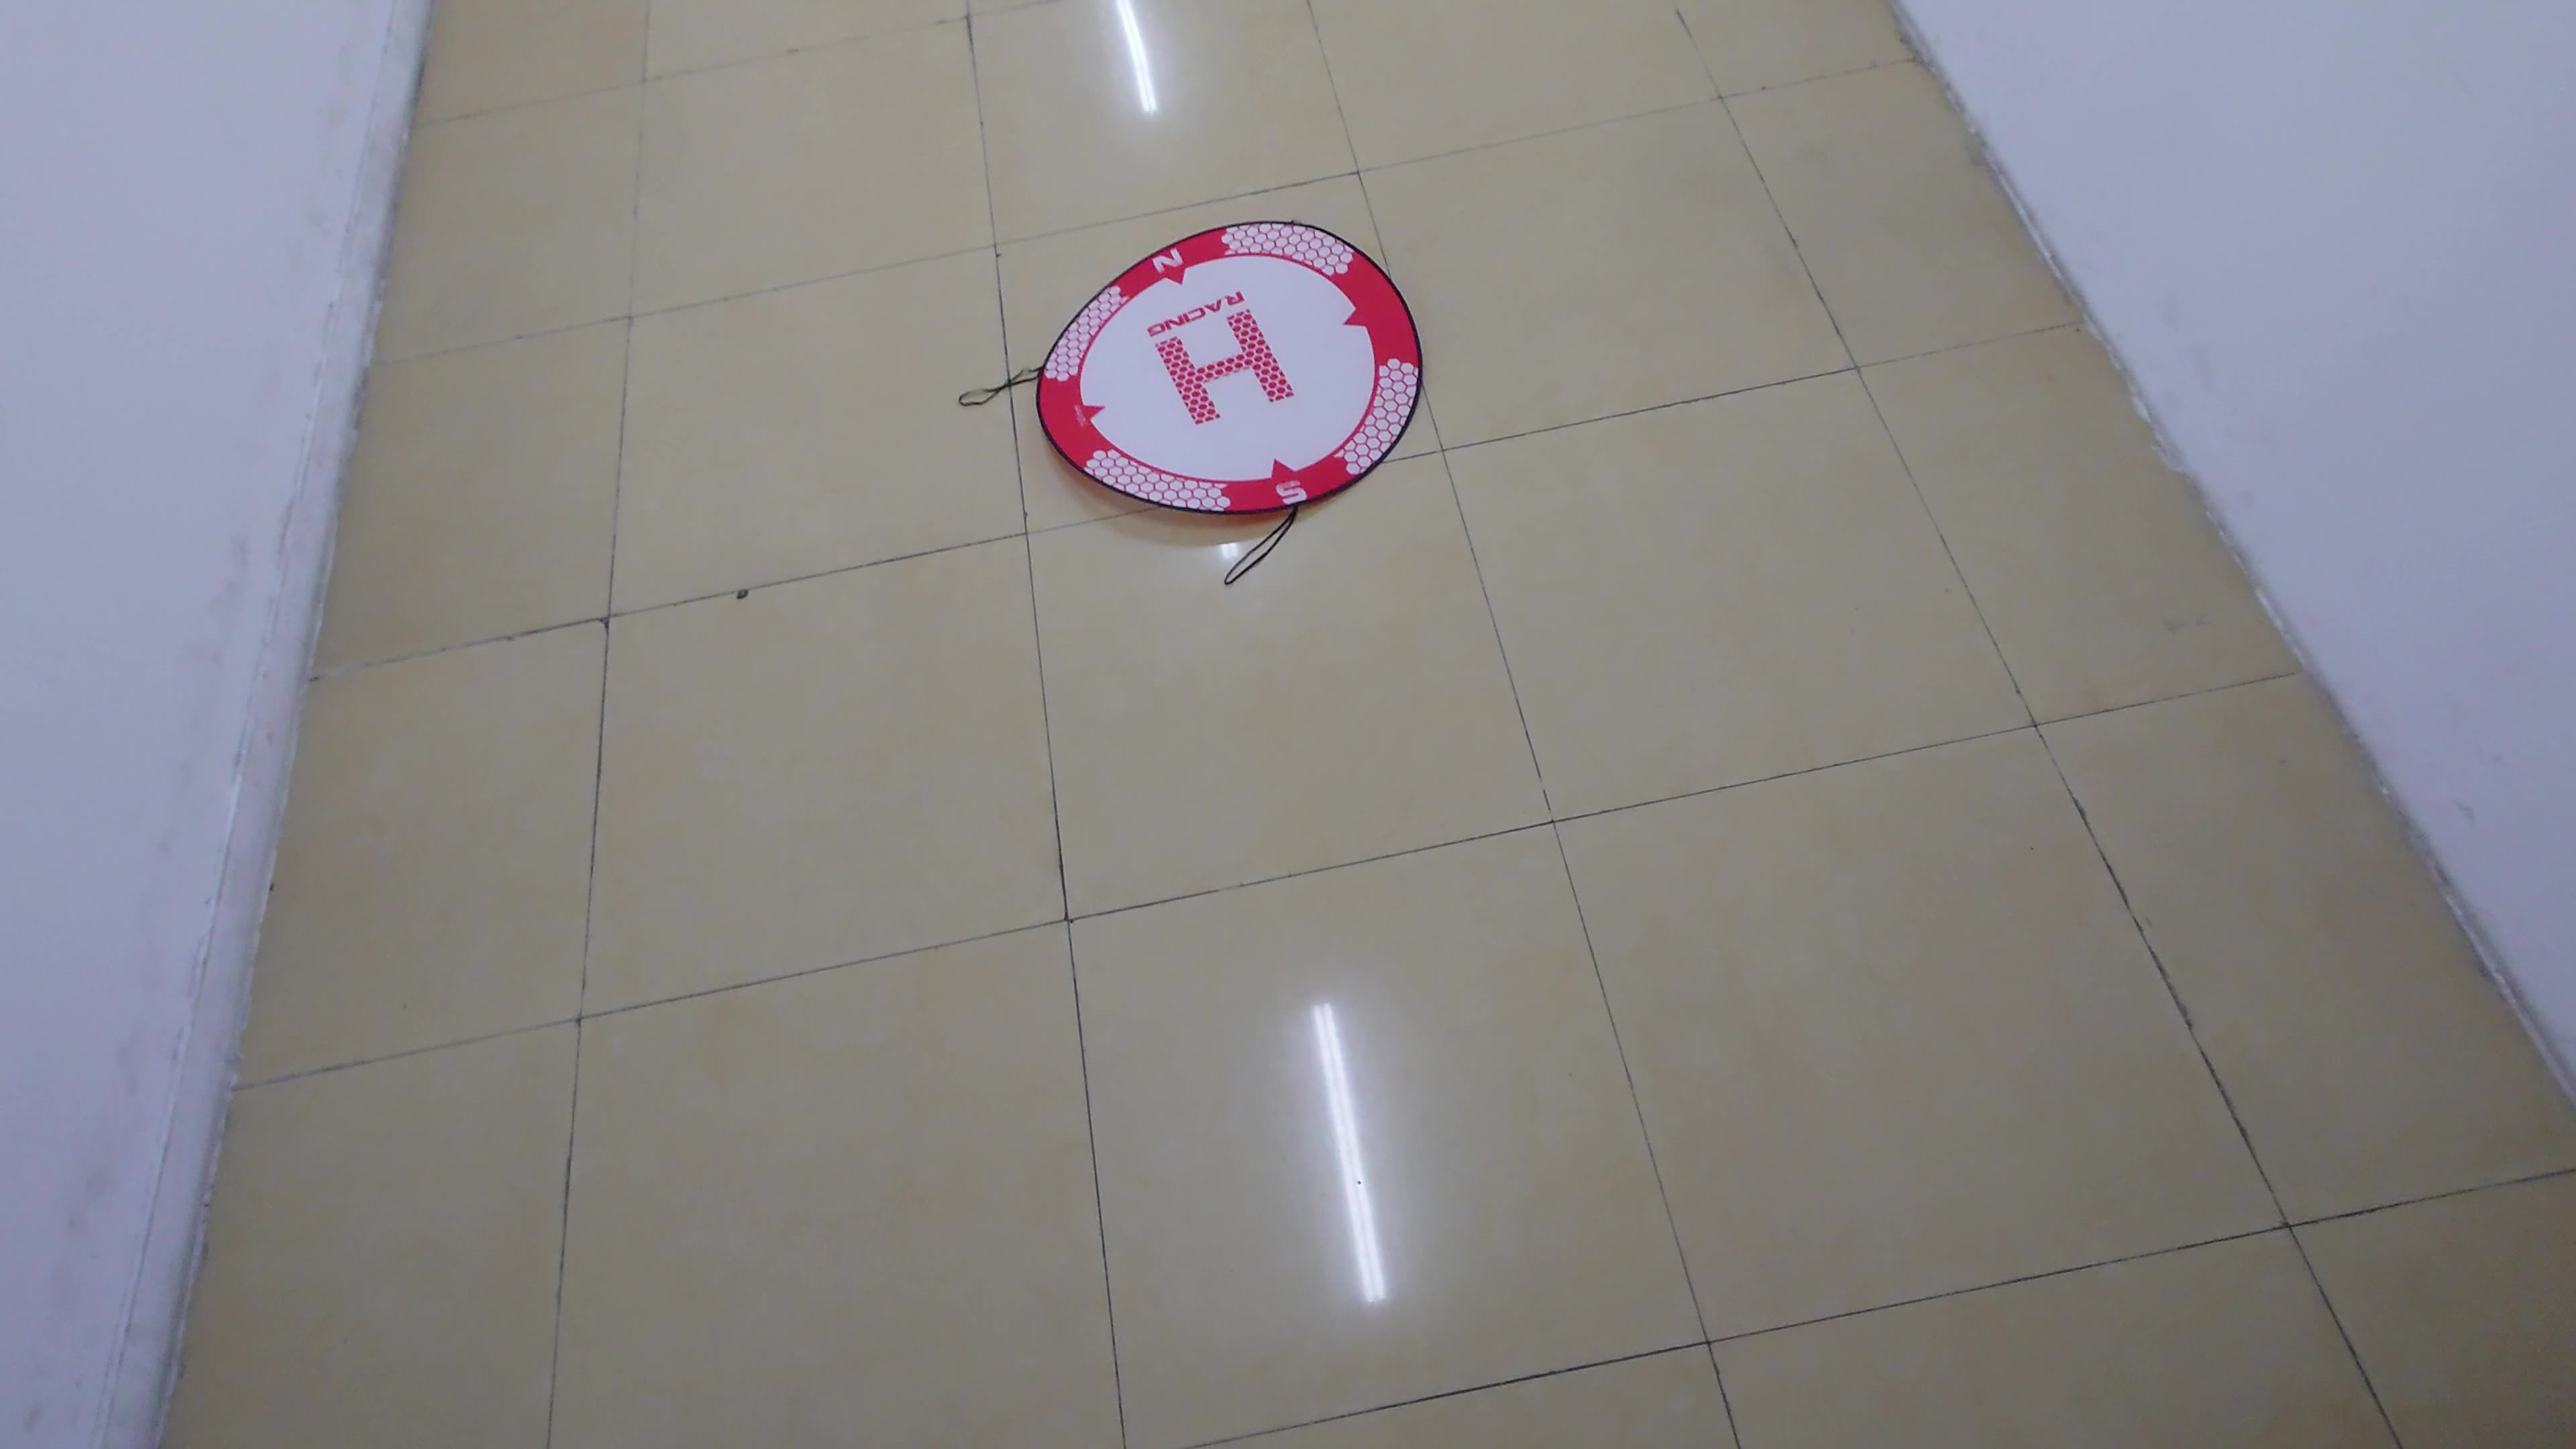H: (1154, 306, 1295, 425)
